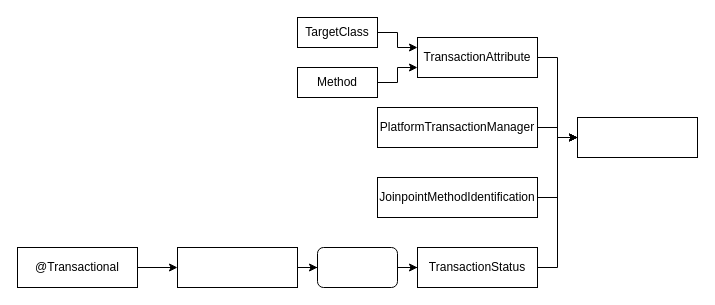
The diagram is 715 pixels wide and 305 high, and some of its shapes have lost their labels. Each missing label, with the centre of its shape:
"TransactionDefinition" goes at (237,267).
"TransactionInfo" goes at (637,137).
"事务传播" goes at (357,267).
